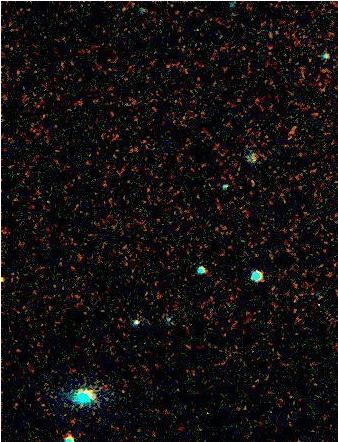star: (128, 0, 158, 23)
